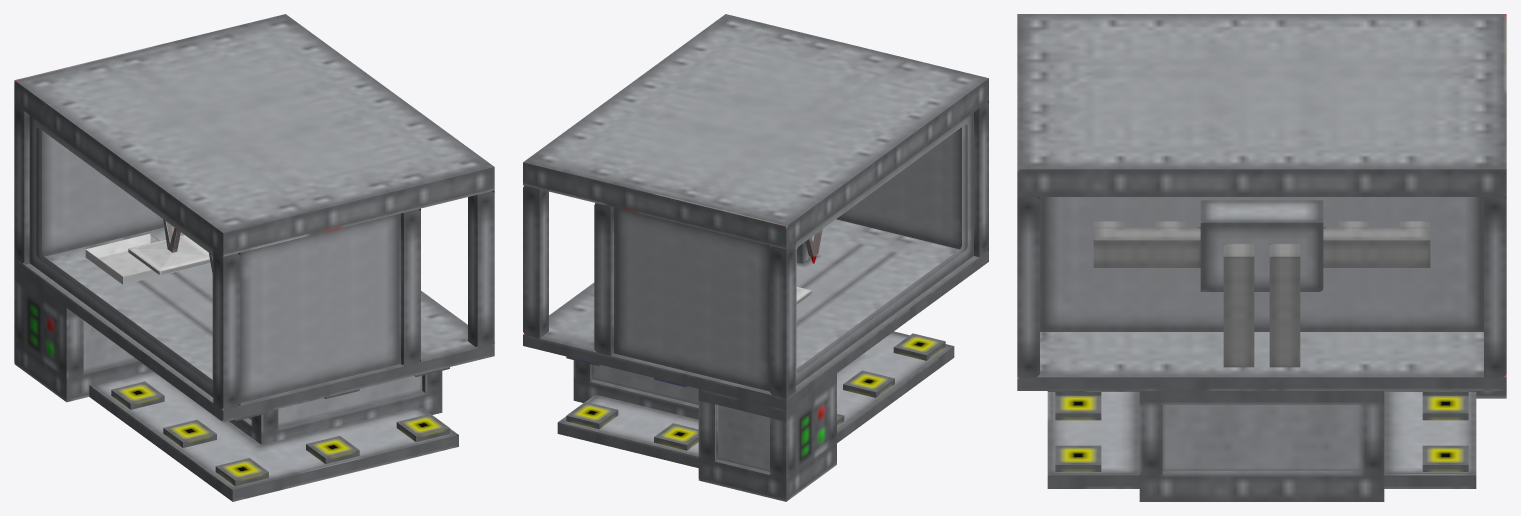
The model's file is precisionassembler.obj.
3 renders of one model, left to right at view 1: azimuth 30°, elevation 25°; view 2: azimuth 150°, elevation 25°; view 3: azimuth 270°, elevation 25°, orthographic. The views are drawn at different scales.
Visible parts, largest first — view 1: Hull, ProcessA, Tray; view 2: Hull; view 3: Hull.
Part boxes in pixels (box(x1,y1,x2,y2)): Hull: box(14, 14, 494, 501); ProcessA: box(128, 219, 210, 274); Tray: box(85, 233, 188, 284); Hull: box(523, 14, 988, 501); Hull: box(1017, 14, 1506, 501).
Size of the model in its own units: 3 by 3 by 4.
